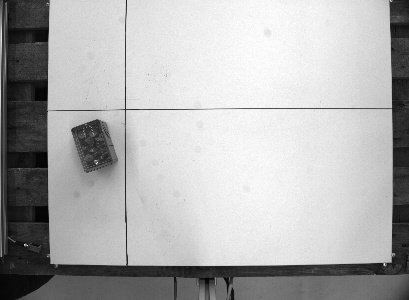kltxs: (69, 116, 119, 175)
